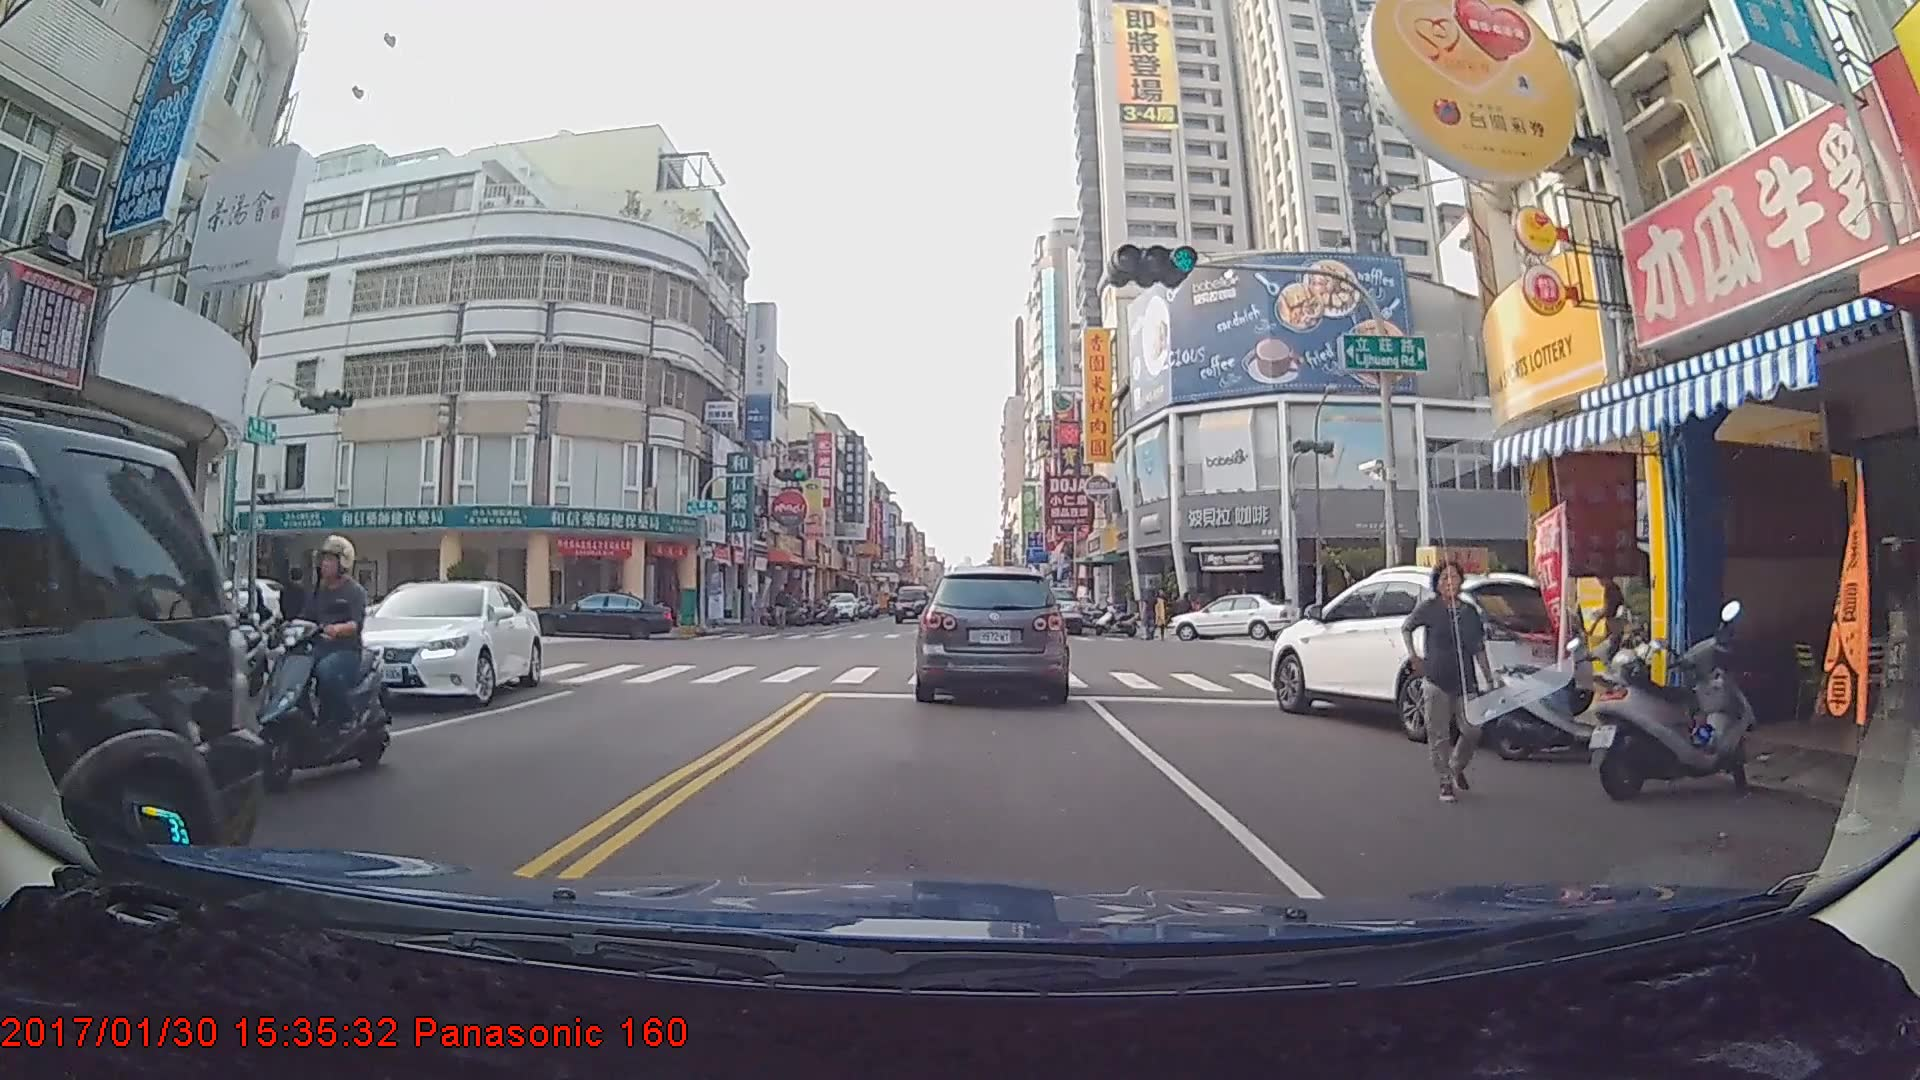pedestrian: (1406, 559, 1488, 805), (773, 585, 793, 631)
rider: (245, 526, 403, 784)
vehicle: (1, 410, 257, 1020), (1268, 561, 1595, 740), (334, 577, 540, 710), (915, 563, 1066, 702), (528, 587, 675, 639), (1167, 590, 1302, 641), (892, 584, 931, 622), (818, 589, 860, 619)
